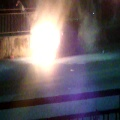fire: (29, 16, 60, 66)
